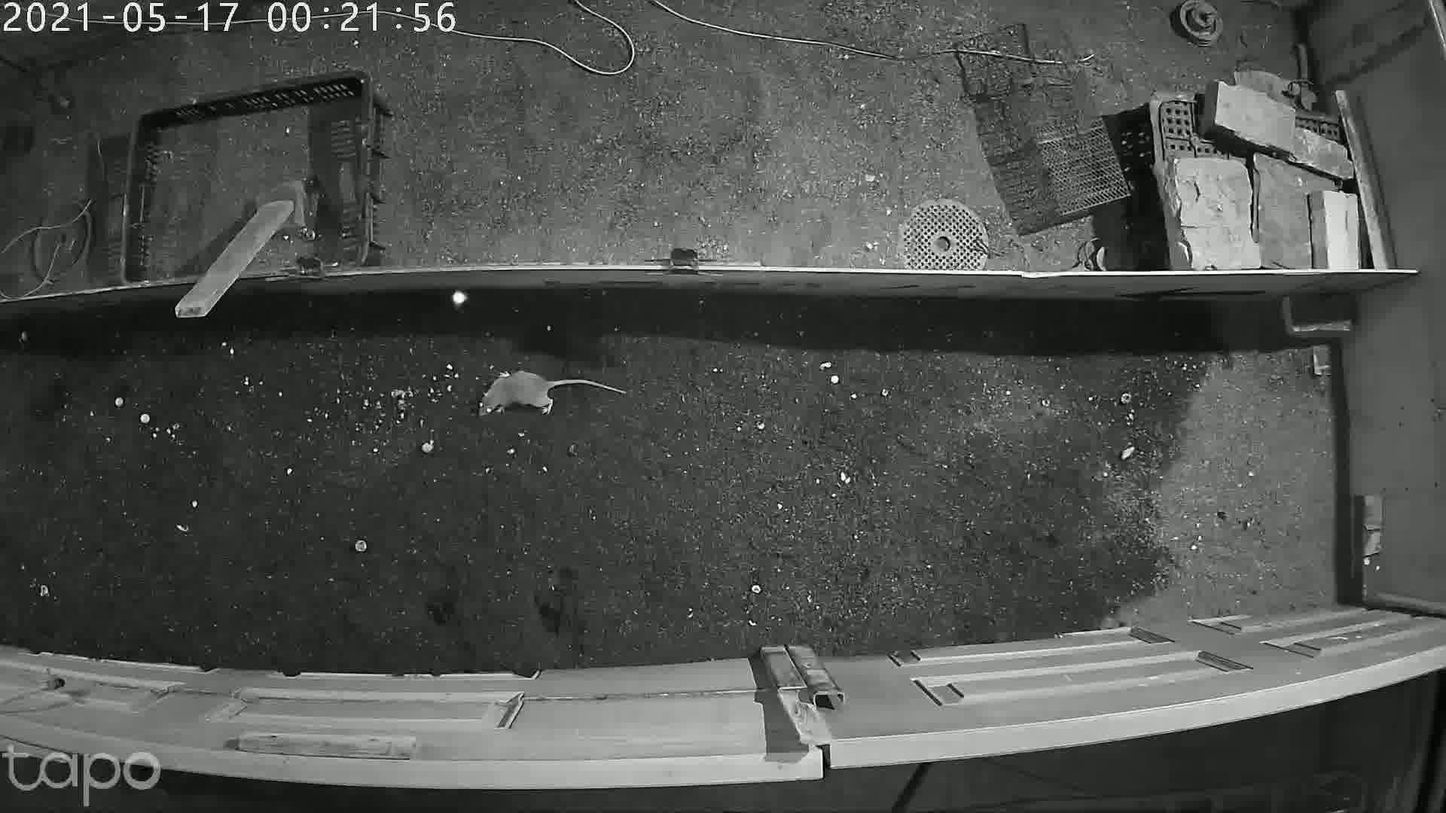rat: (467, 356, 629, 428)
